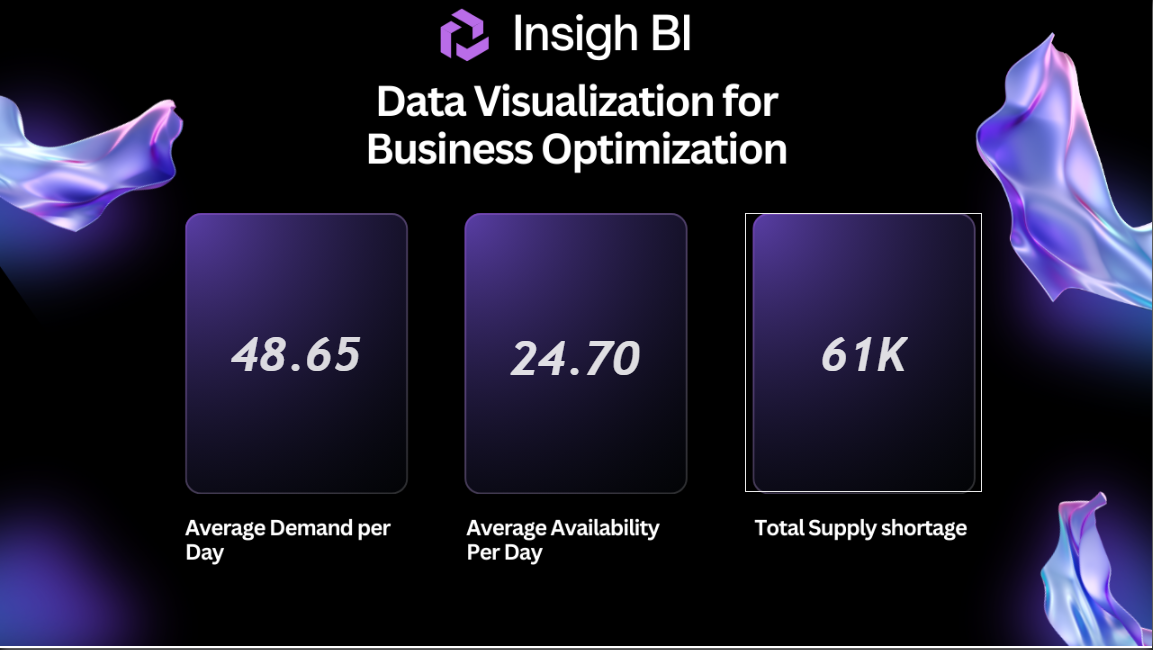

Layout of this report page (visuals, bound fields, positions):
{"tool":"powerbi","page":{"name":"Demand & Supply","canvas":[1280,720],"ordinal":0},"visuals":[{"type":"cardVisual","fields":{"Data":["Measures Table 1.Average Demand per Day"]},"box":[196,236.7,266,310.3],"z":0},{"type":"cardVisual","fields":{"Data":["Measures Table 1.Average Availibility per Day"]},"box":[507.2,236.7,264.2,319.2],"z":1000},{"type":"cardVisual","fields":{"Data":["Measures Table 1.Supply Shortage"]},"box":[827.3,236.7,264.2,310.3],"z":2000}]}

Visuals, with their boxes in screenshot pixels (x1, y1, x2, y2), scaled from the page's 1280x720 canvas onto the 1153x650 screenshot:
cardVisual - Measures Table 1.Average Demand per Day: <region>177, 214, 416, 494</region>
cardVisual - Measures Table 1.Average Availibility per Day: <region>457, 214, 695, 502</region>
cardVisual - Measures Table 1.Supply Shortage: <region>745, 214, 983, 494</region>
